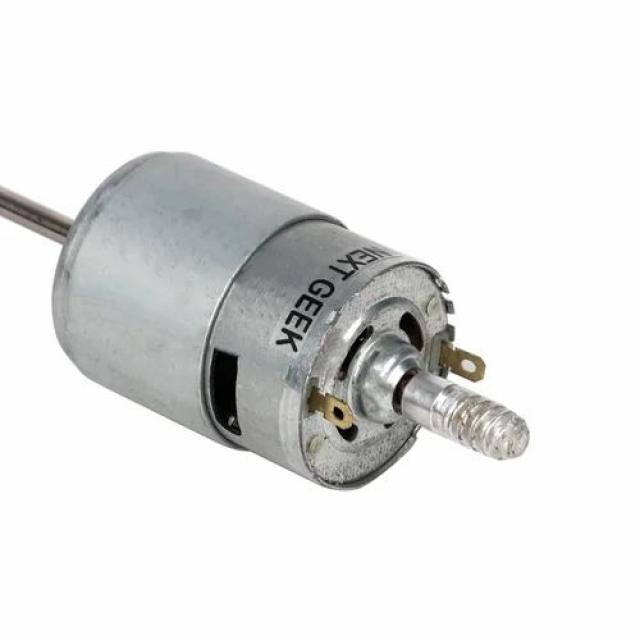motor: (0, 151, 531, 493)
